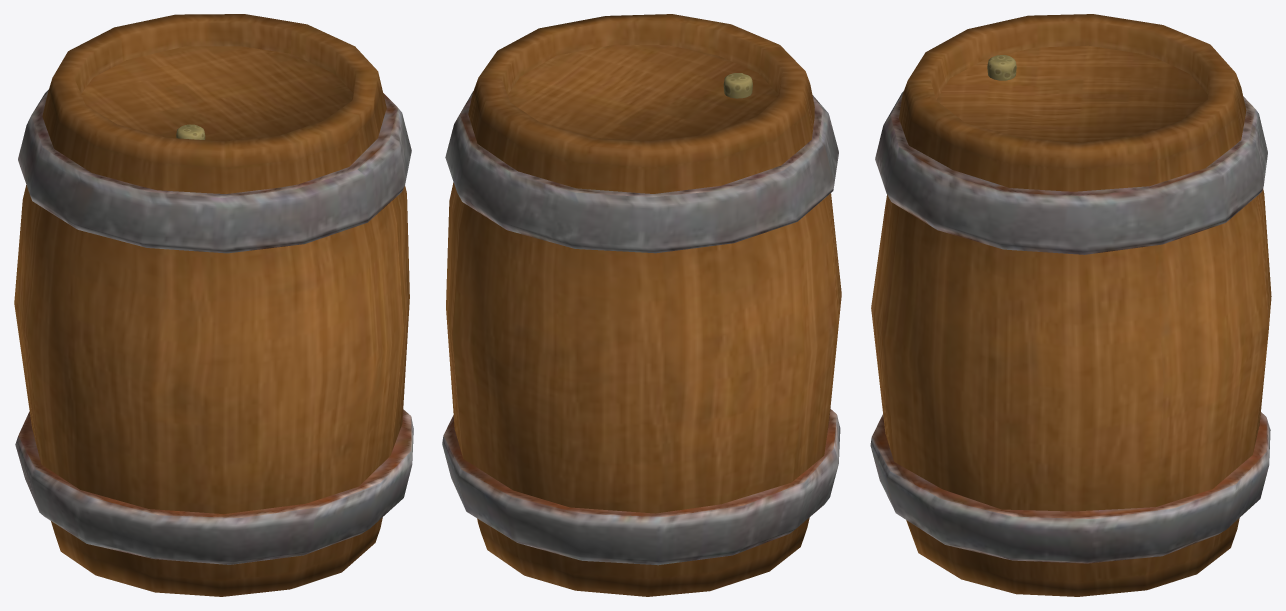
Rendered from _Stylized_Barrel.glb.
3 views of the same model, side by side, from view 1: azimuth 30°, elevation 25°; view 2: azimuth 150°, elevation 25°; view 3: azimuth 270°, elevation 25° (orthographic).
Parts seen in each view (by area): view 1: _Stylized_Barrel; view 2: _Stylized_Barrel; view 3: _Stylized_Barrel.
Boxes of the visible parts, box(x1,y1,x2,y2) form: _Stylized_Barrel: box(14, 14, 413, 596); _Stylized_Barrel: box(442, 14, 841, 596); _Stylized_Barrel: box(870, 14, 1271, 596).
Bounding box in the file's own units: 0.8153 × 1 × 0.8134.
Materials: 1 (1 with a texture image).
